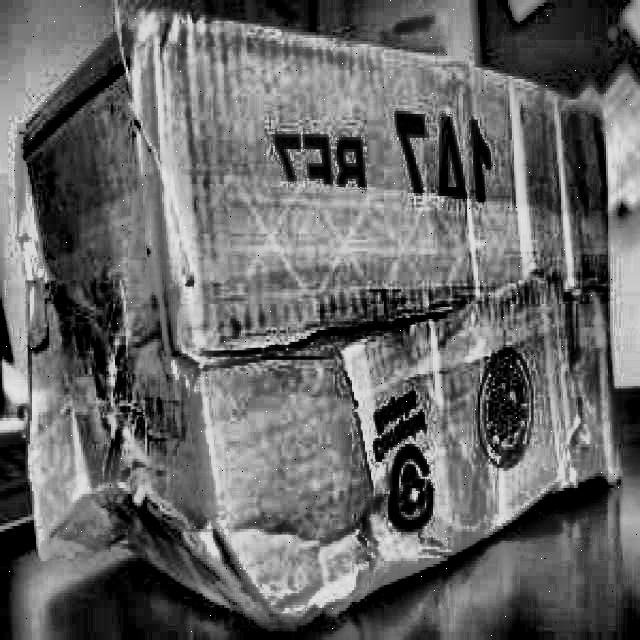box: (4, 0, 624, 637)
hole: (210, 525, 264, 616)
